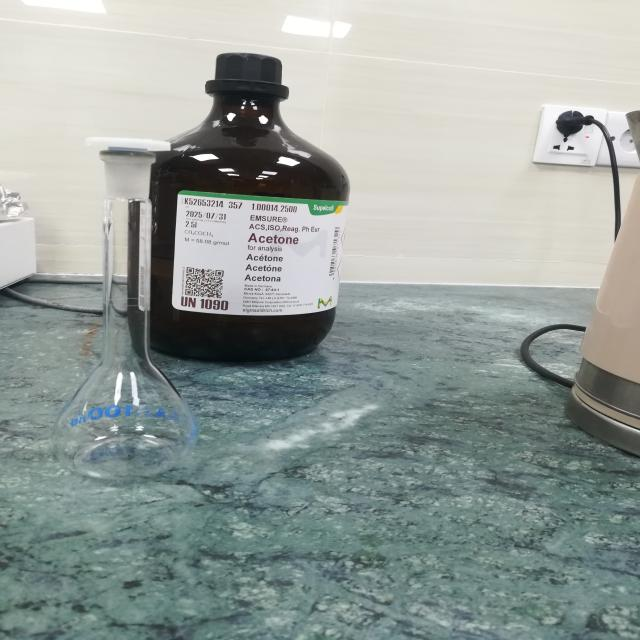Volumetric_Flask: (44, 120, 235, 501)
